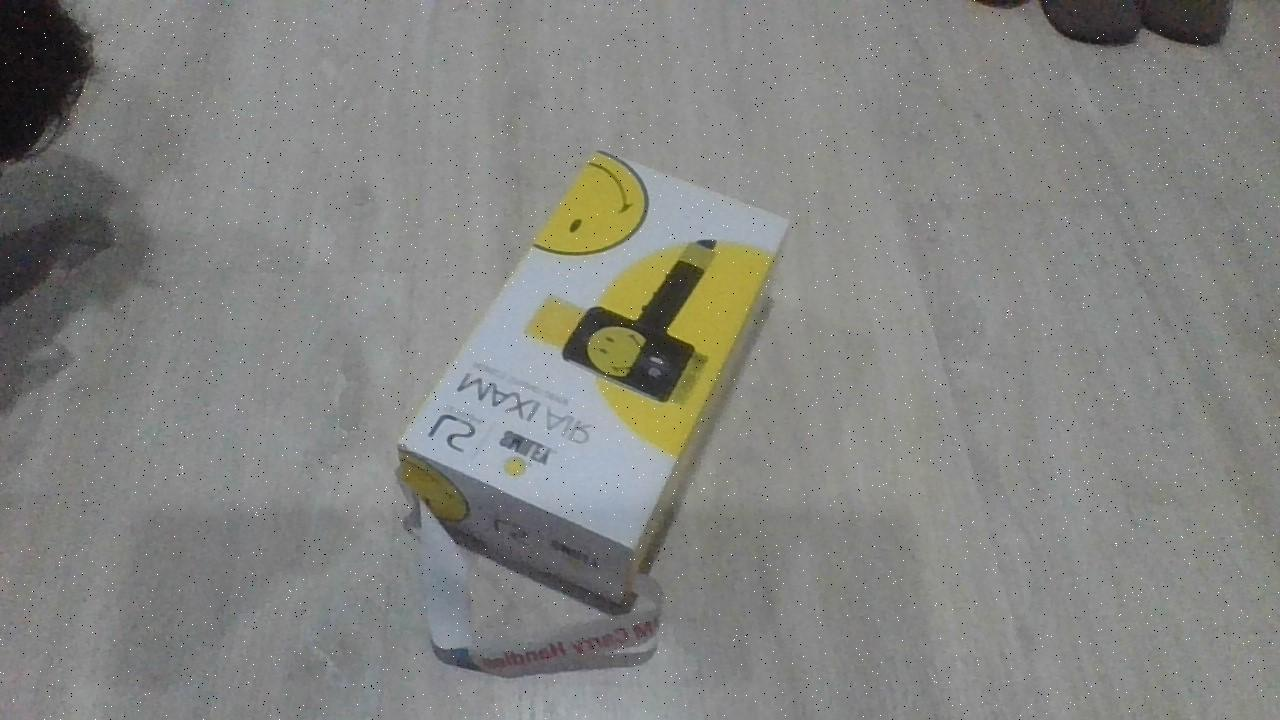Dryer: (394, 145, 794, 614)
